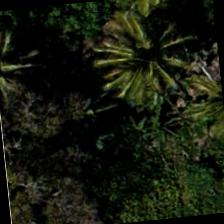Kelapa_Sawit: (92, 7, 191, 106)
